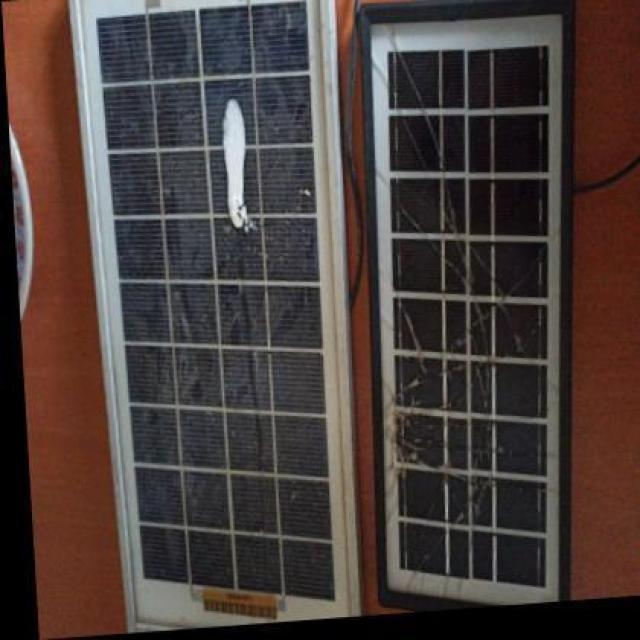cracked: (361, 3, 590, 613)
soiled: (66, 2, 360, 636)
